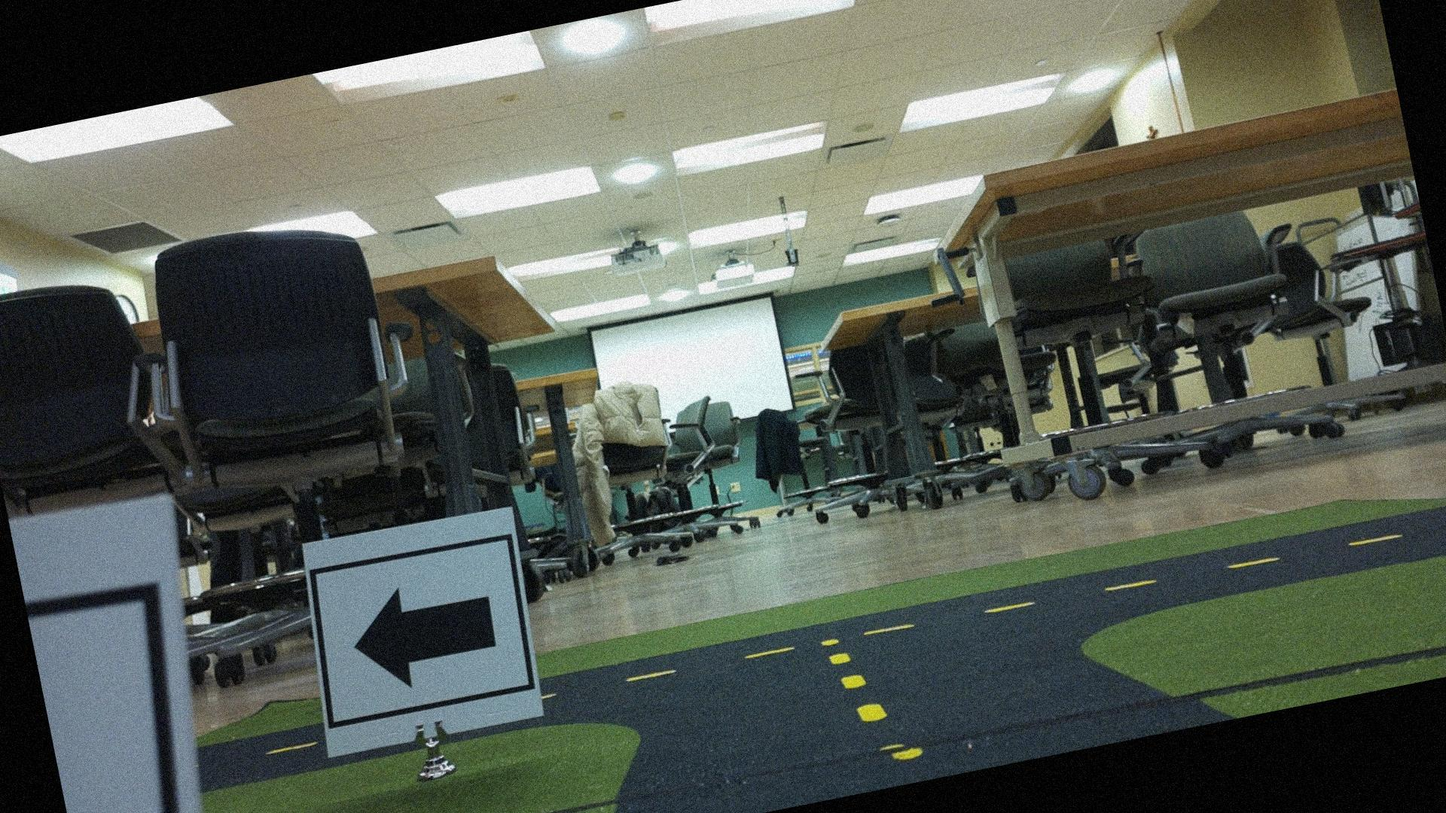turnleft: (298, 513, 541, 754)
yellowline: (628, 520, 1405, 692), (817, 622, 887, 730)
